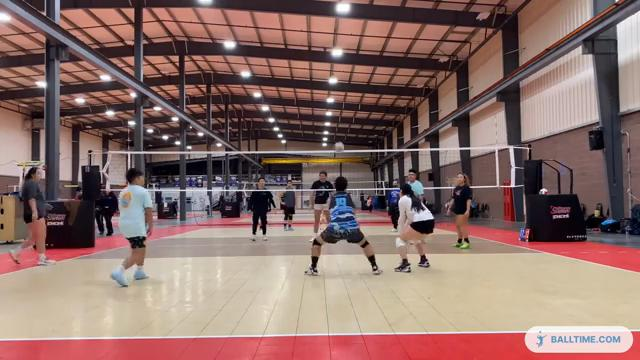Player: (111, 168, 152, 286), (9, 167, 54, 265), (395, 184, 434, 272), (448, 173, 472, 248), (248, 177, 275, 240), (310, 170, 332, 240), (281, 180, 296, 230), (388, 180, 400, 232), (407, 169, 423, 200)
Receive: (294, 173, 384, 276)
ball: (332, 141, 344, 154)
